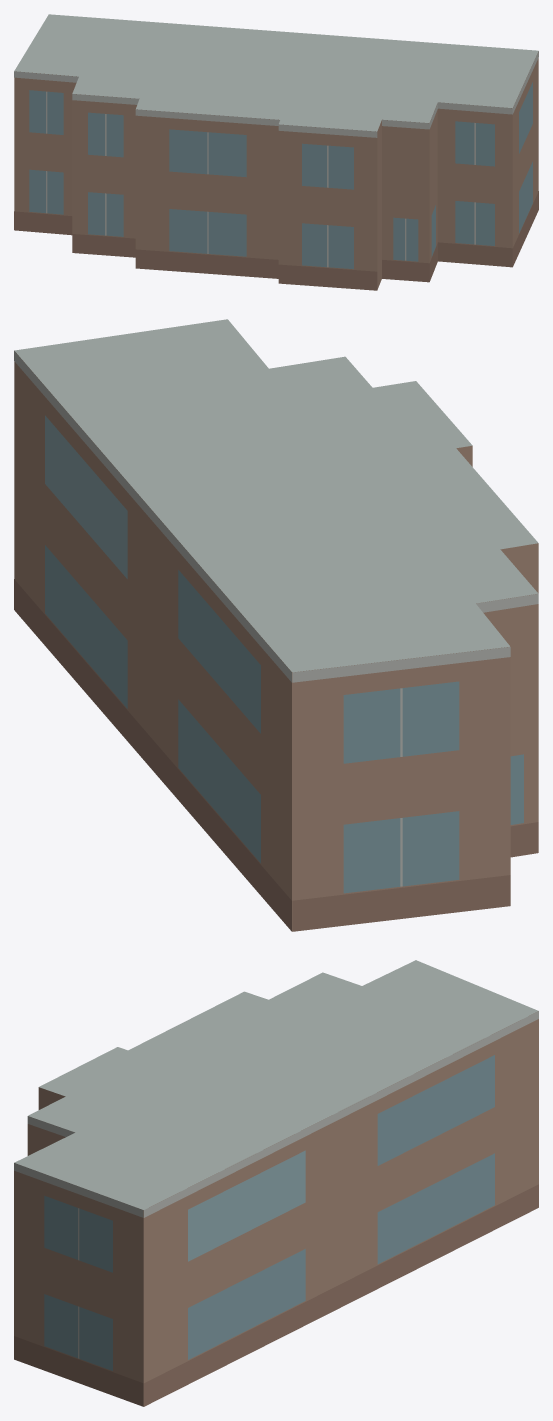
File: survey-upis-32817189.glb
3 renders of one model, top to bottom at view 1: azimuth 30°, elevation 25°; view 2: azimuth 150°, elevation 25°; view 3: azimuth 270°, elevation 25°, orthographic. The views are drawn at different scales.
Visible parts, largest first — view 1: survey-upis-32817189.tmp; view 2: survey-upis-32817189.tmp; view 3: survey-upis-32817189.tmp.
Part boxes in pixels (box(x1,y1,x2,y2)): survey-upis-32817189.tmp: box(14, 14, 538, 290); survey-upis-32817189.tmp: box(14, 319, 538, 931); survey-upis-32817189.tmp: box(14, 960, 538, 1406).
Size of the model in its own units: 16.64 by 6.1 by 14.76.
